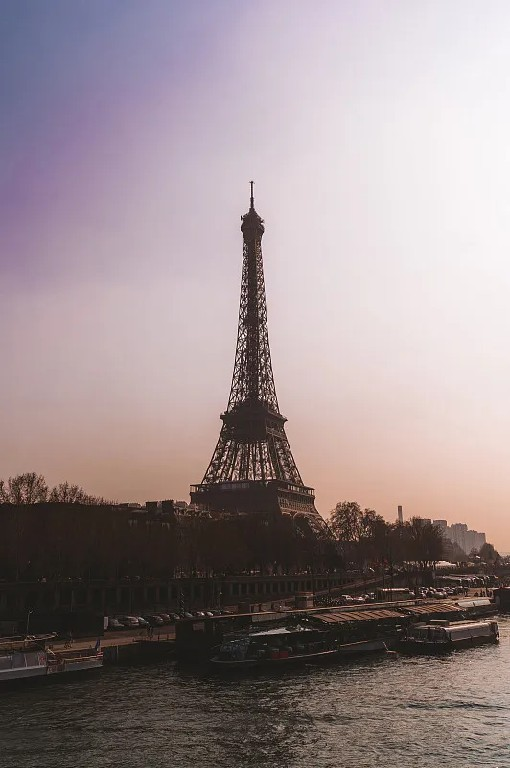Eiffel: (186, 181, 333, 539)
